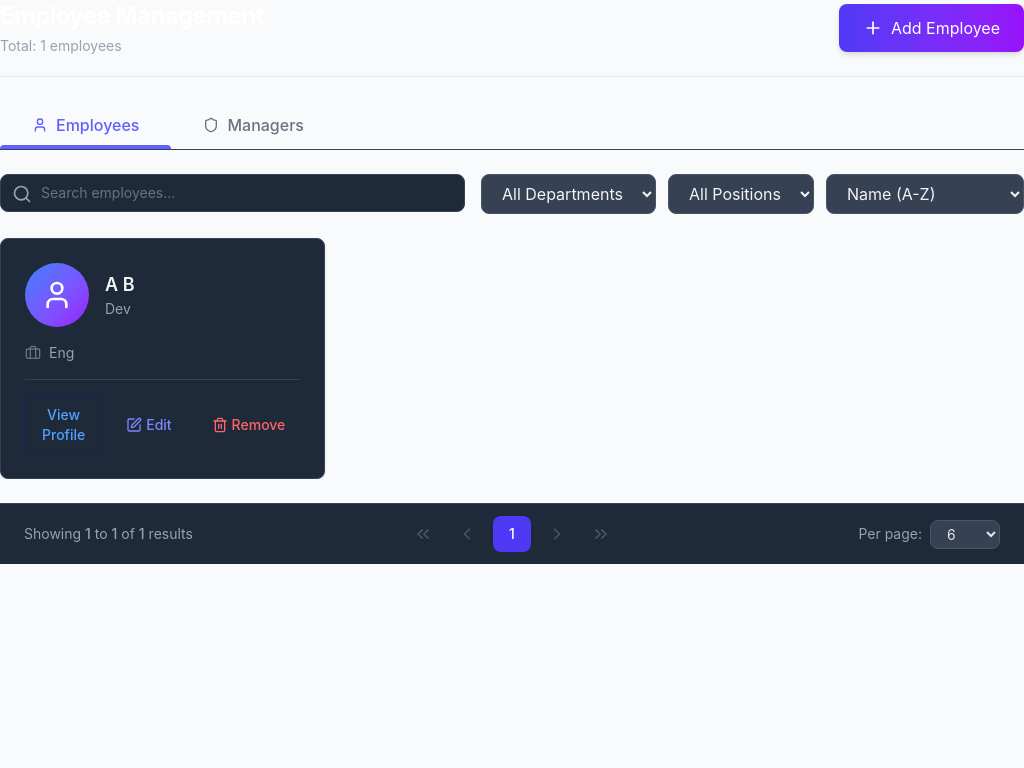
Test: EmployeesPage interactions › loads employees and opens add employee modal
Type "A" into the field with placeholder "Search employees..." at (232, 193), box [0, 174, 465, 212]
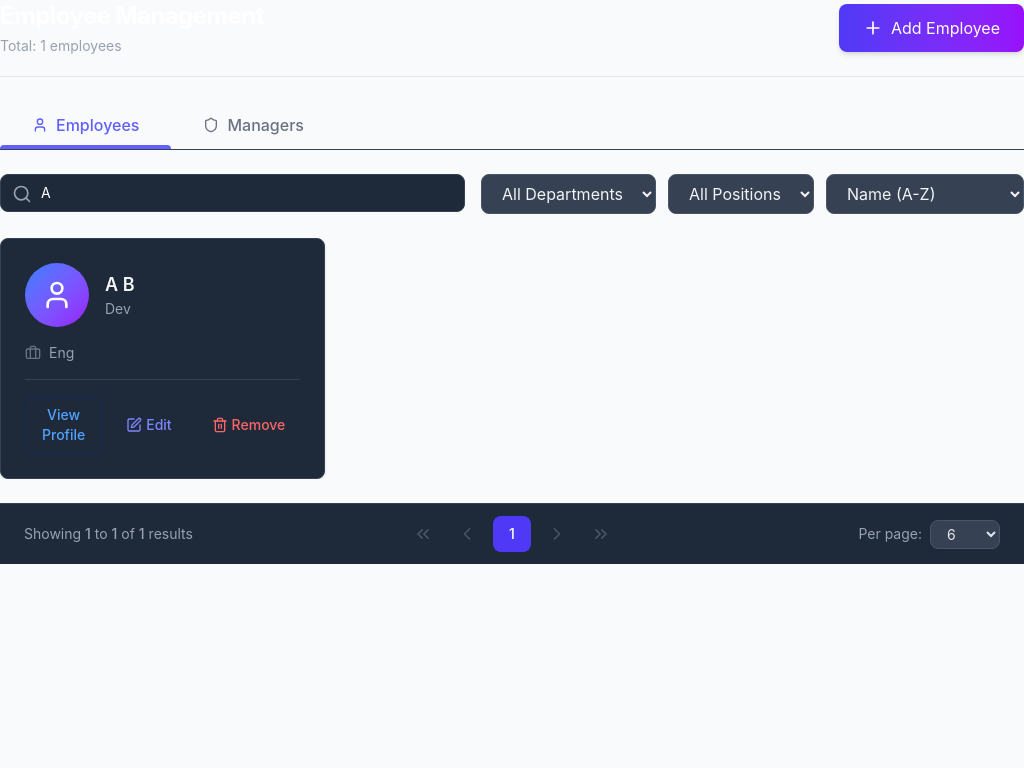
Click the button "Add Employee" at (931, 28), box [839, 4, 1023, 52]
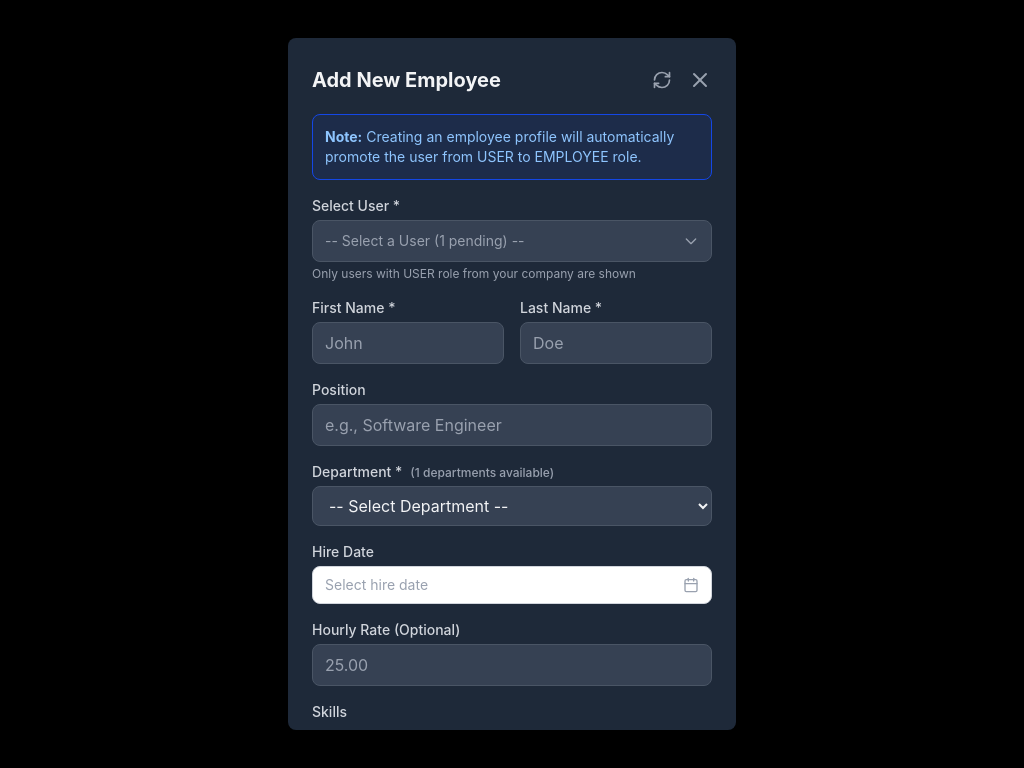
Expected: the heading "Add New Employee" is shown, [312, 66, 501, 94]
